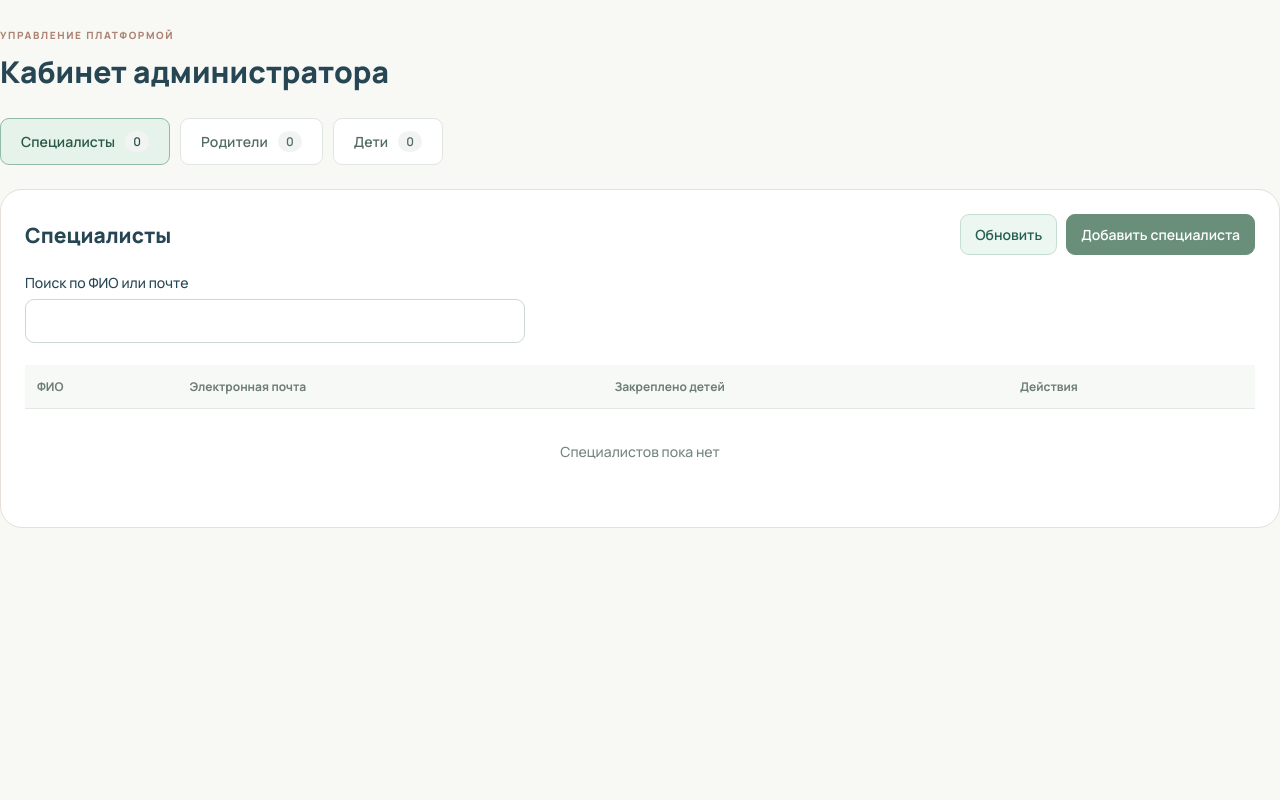
Test: admin creates specialist in a separate form
expect the button "Обновить" is enabled: met, box [960,214,1057,255]
Click the button "Добавить специалиста": click(1161, 234) [1066,214,1255,255]
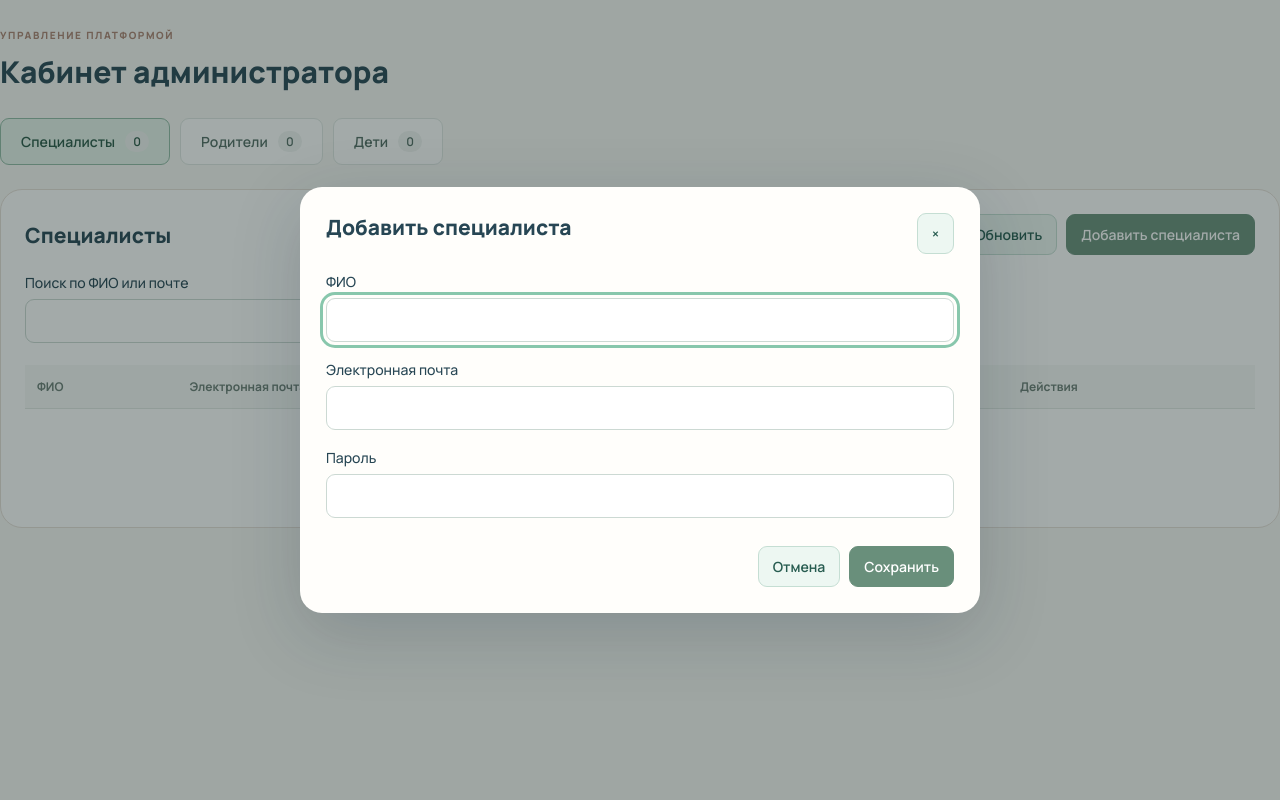
In the field labelled "ФИО": (640, 320) [326,298,954,342], type "Проверочный Пользователь"
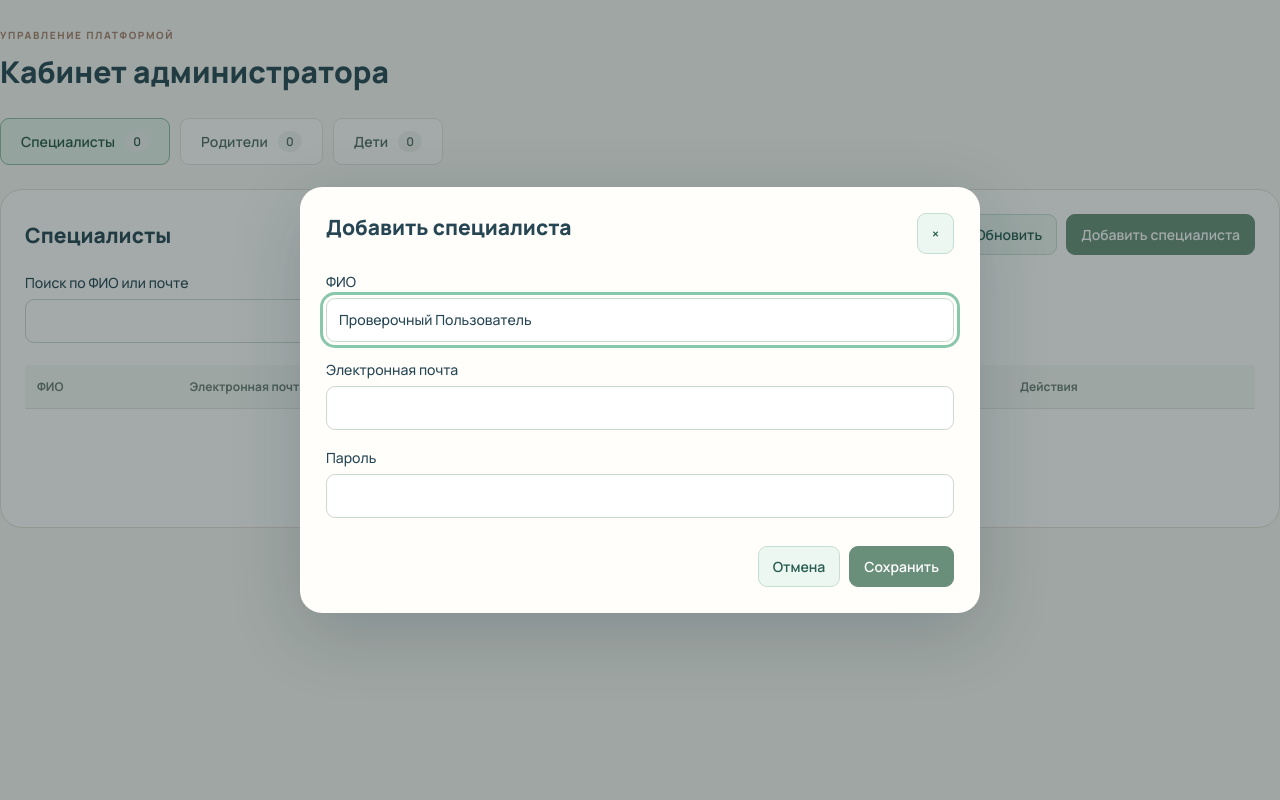
In the field labelled "Электронная почта": (640, 408) [326,386,954,430], type "new@test.invalid"
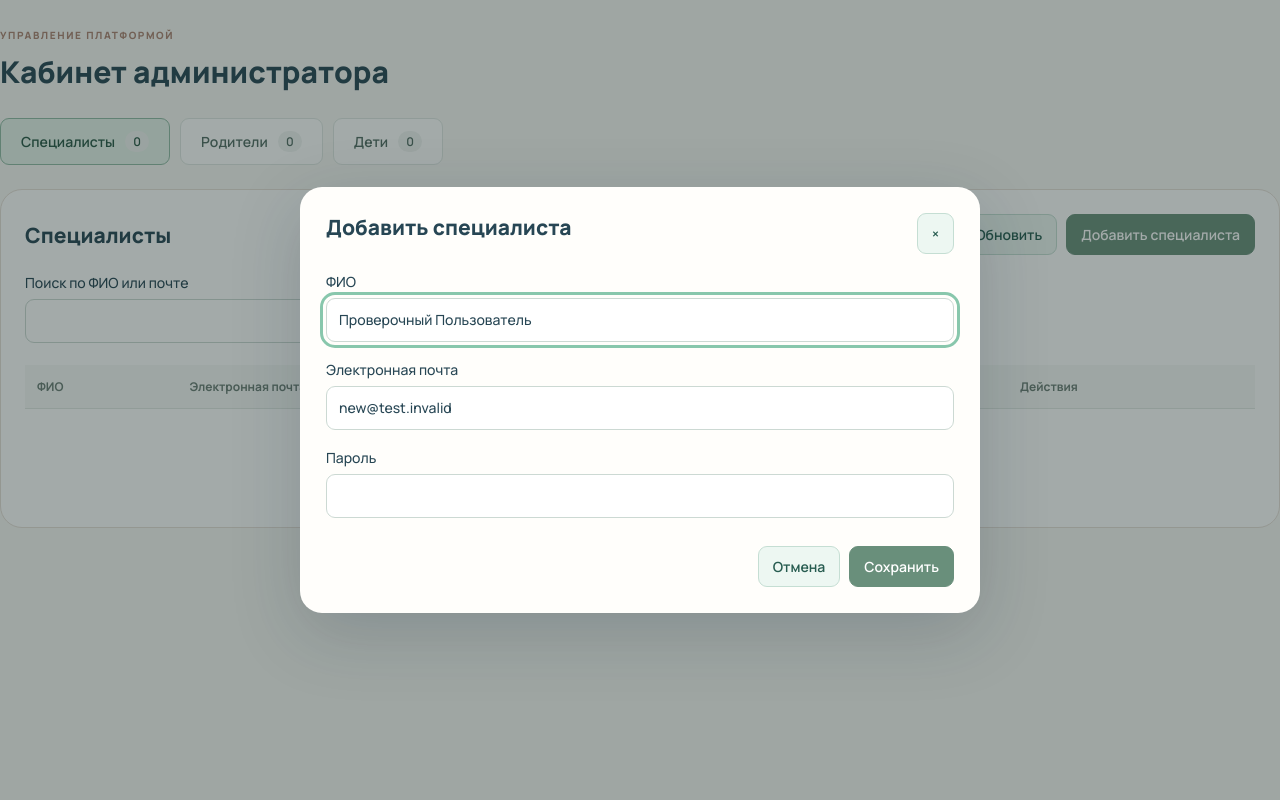
In the password field labelled "Пароль": (640, 496) [326,474,954,518], type "password123"
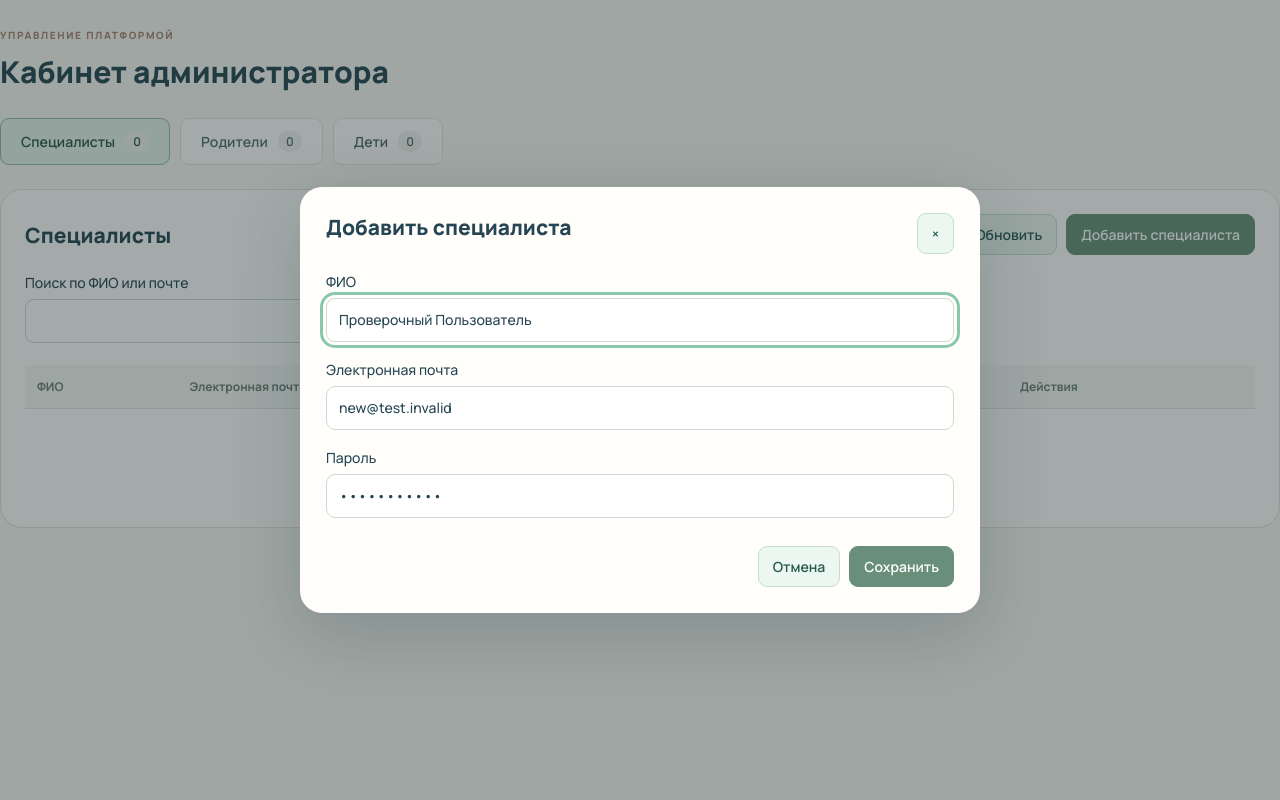
Click the button "Сохранить": click(902, 566) [849,546,954,587]
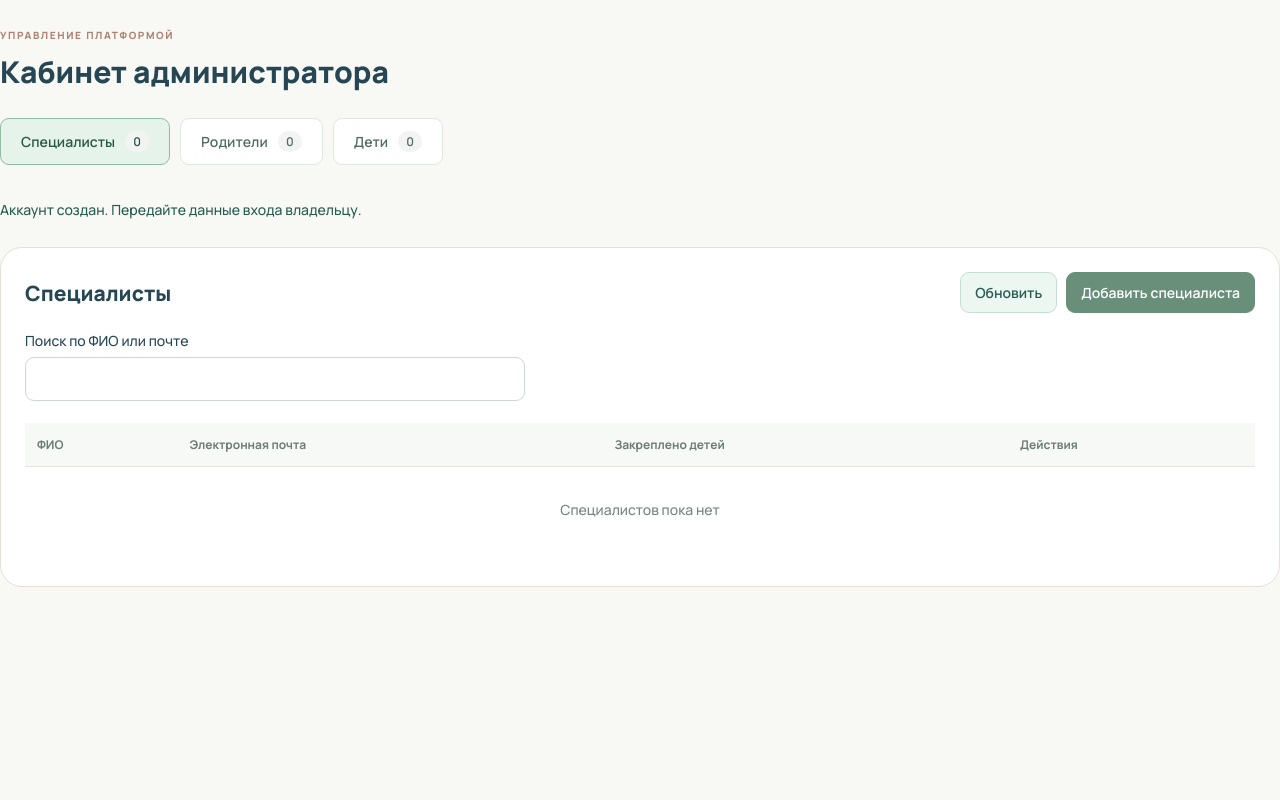
expect the dialog is gone: met
expect the label labelled "Пароль" is gone: met
